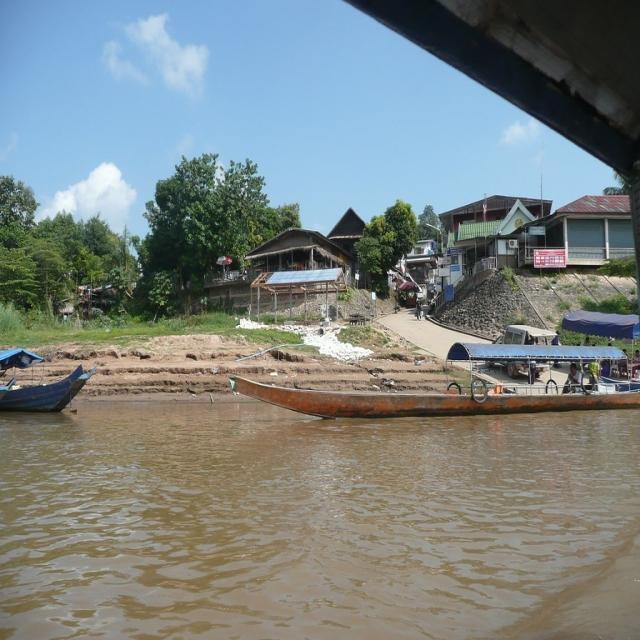boat: (216, 362, 640, 423)
